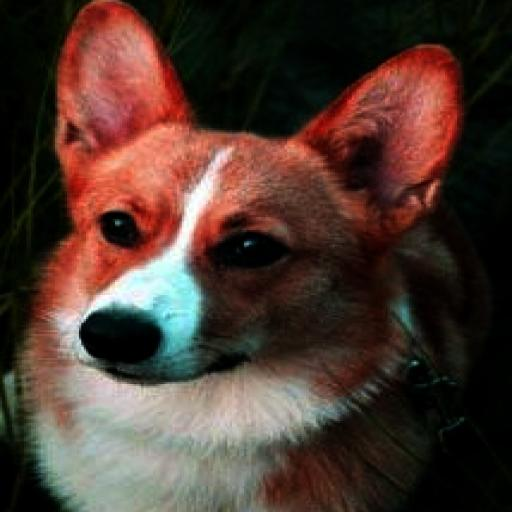dog_face: (50, 6, 457, 371)
